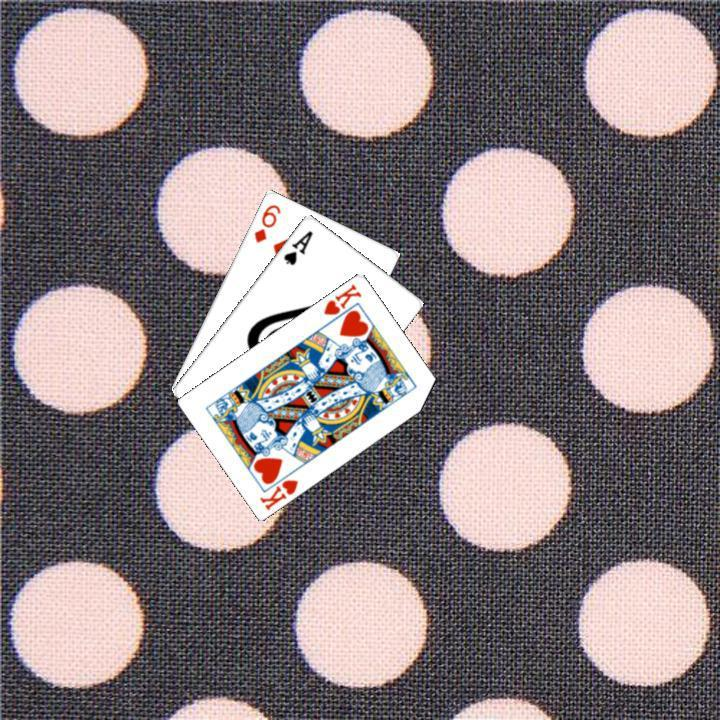6: (249, 199, 283, 245)
A: (279, 226, 315, 267)
K: (255, 474, 301, 512), (319, 279, 364, 317)
